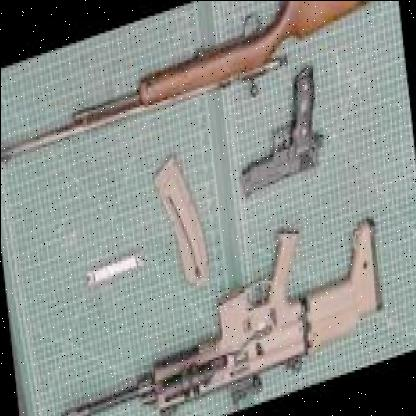rifle: (50, 198, 388, 416), (0, 0, 395, 181)
